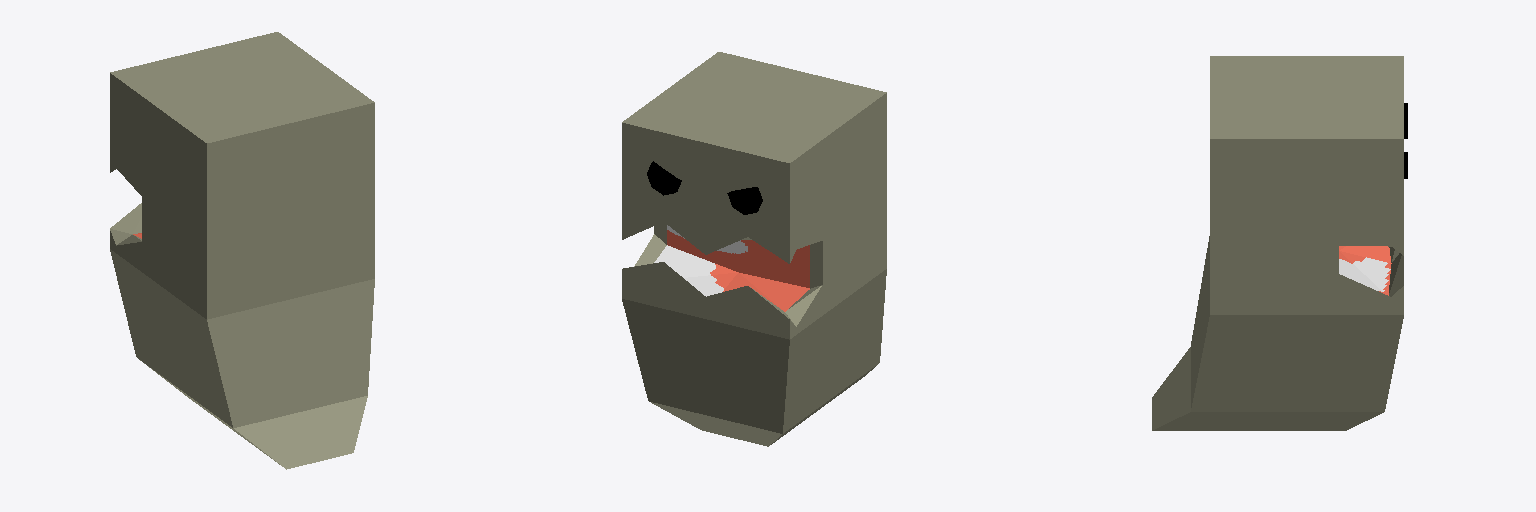
The picture shows the model from 3 angles: view 1: azimuth 30°, elevation 25°; view 2: azimuth 150°, elevation 25°; view 3: azimuth 270°, elevation 25°; orthographic projection.
Visible parts, largest first — view 1: body_Mesh; view 2: body_Mesh, eye_right_Mesh.001, eye_left_Mesh.002; view 3: body_Mesh.
Part boxes in pixels (x1,y1,x2,y2): body_Mesh: (110,32,374,469); body_Mesh: (622,52,886,446); eye_right_Mesh.001: (727,187,762,214); eye_left_Mesh.002: (647,161,681,195); body_Mesh: (1152,56,1403,430).
Bounding box in the file's own units: 0.5 × 0.9 × 0.66.
3 materials, 1 textured.